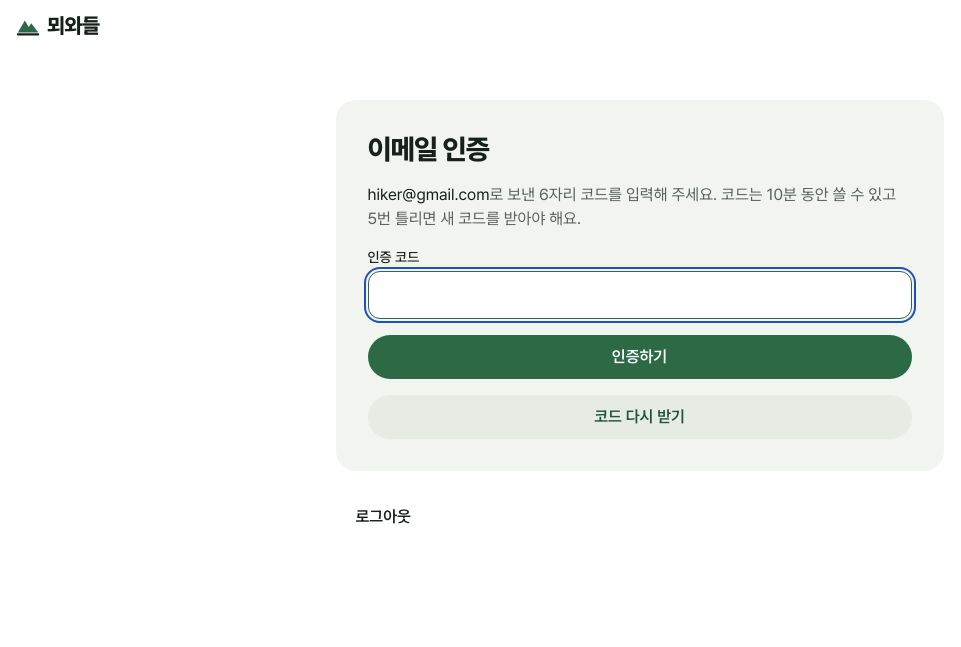
Test: 이메일 인증 화면 › 코드를 다시 받으면 안내가 보이고 버튼이 60초 동안 잠긴다
Click the button "코드 다시 받기": (640, 417) x1=368 y1=395 x2=912 y2=439
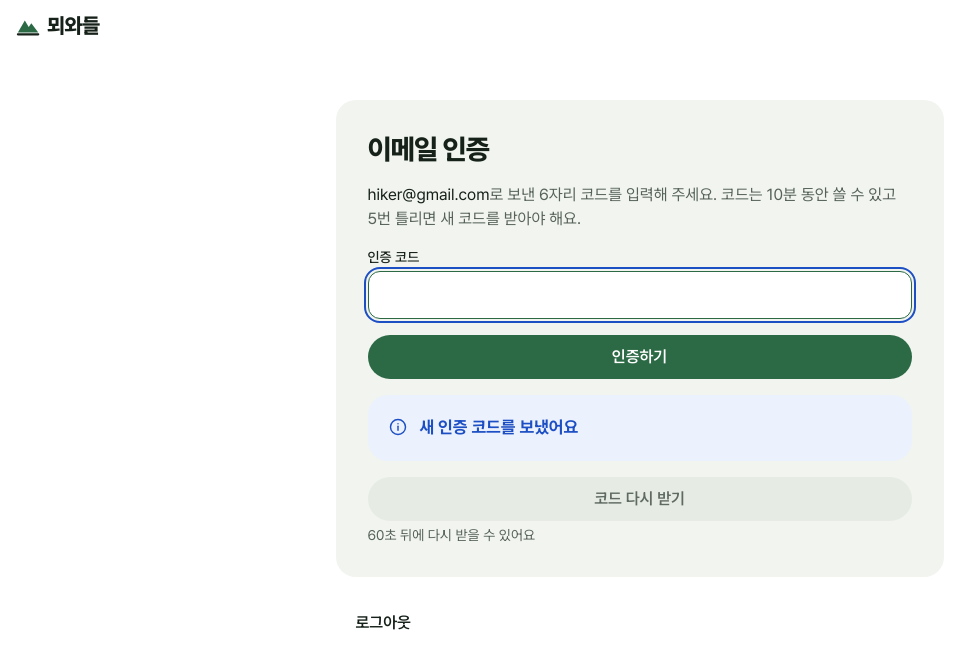
expect the message "새 인증 코드를 보냈어요" is shown: met, box x1=368 y1=395 x2=912 y2=460
expect the button "코드 다시 받기" is disabled: met, box x1=368 y1=476 x2=912 y2=520
expect the text "60초 뒤에 다시 받을 수 있어요" is shown: met, box x1=368 y1=526 x2=535 y2=542
